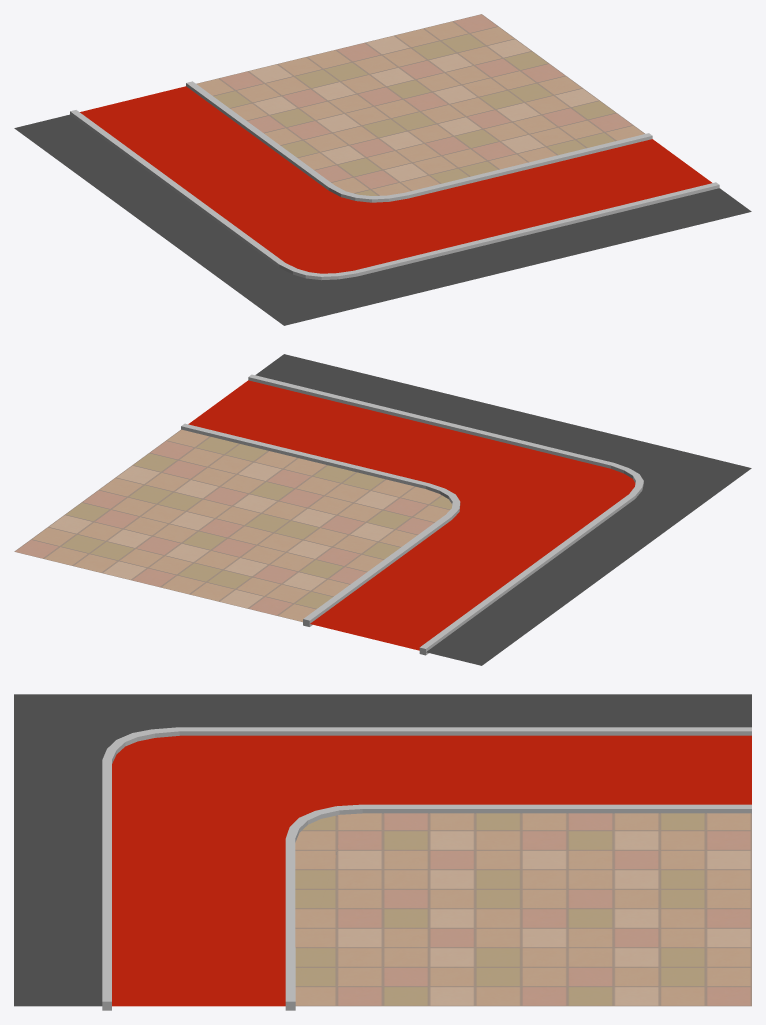
The model's file is Set_C_Tiles_01.fbx.
3 views of the same model, one above another, from view 1: azimuth 30°, elevation 25°; view 2: azimuth 150°, elevation 25°; view 3: azimuth 270°, elevation 25° (orthographic). The views are drawn at different scales.
Visible parts, largest first — view 1: Set_C_Tiles_01; view 2: Set_C_Tiles_01; view 3: Set_C_Tiles_01.
Boxes of the visible parts, bbox=[...] form: Set_C_Tiles_01: bbox=[14, 14, 751, 325]; Set_C_Tiles_01: bbox=[14, 354, 751, 665]; Set_C_Tiles_01: bbox=[14, 694, 751, 1010].
Bounding box in the file's own units: 1500 × 1500 × 20.
